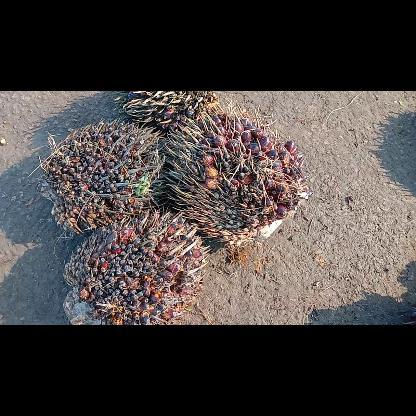TBS abnormal: (58, 204, 207, 324), (37, 116, 172, 233), (112, 92, 223, 130)
TBS masak: (162, 104, 312, 254)
